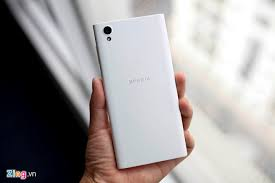sony: (91, 13, 187, 169)
